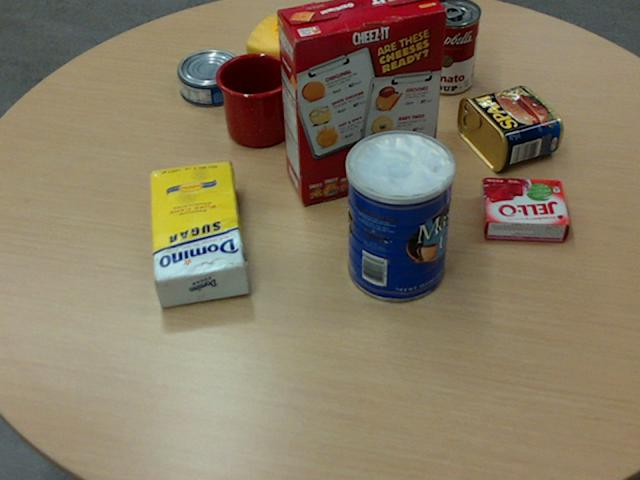cracker_box: (276, 0, 447, 202)
gelatin_box: (481, 176, 568, 240)
large_marker: (390, 32, 410, 122)
master_chef_can: (345, 130, 454, 302)
mug: (214, 52, 310, 146)
mustard_bottle: (246, 12, 393, 87)
potted_meat_can: (456, 84, 562, 171)
sugar_box: (147, 159, 247, 307)
tomato_soup_can: (423, 0, 481, 92)
tuna_fish_can: (176, 47, 243, 104)
